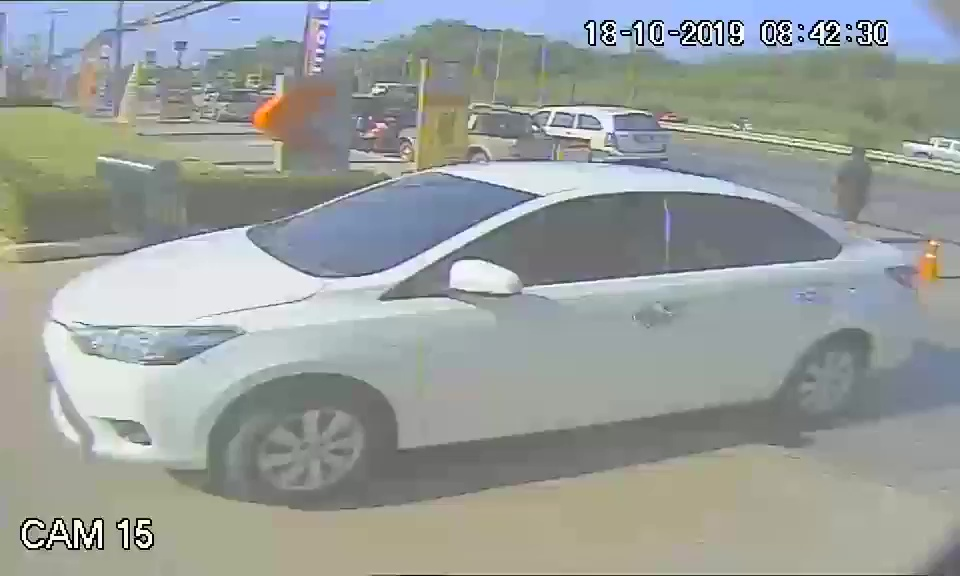sedan: (42, 158, 926, 498)
